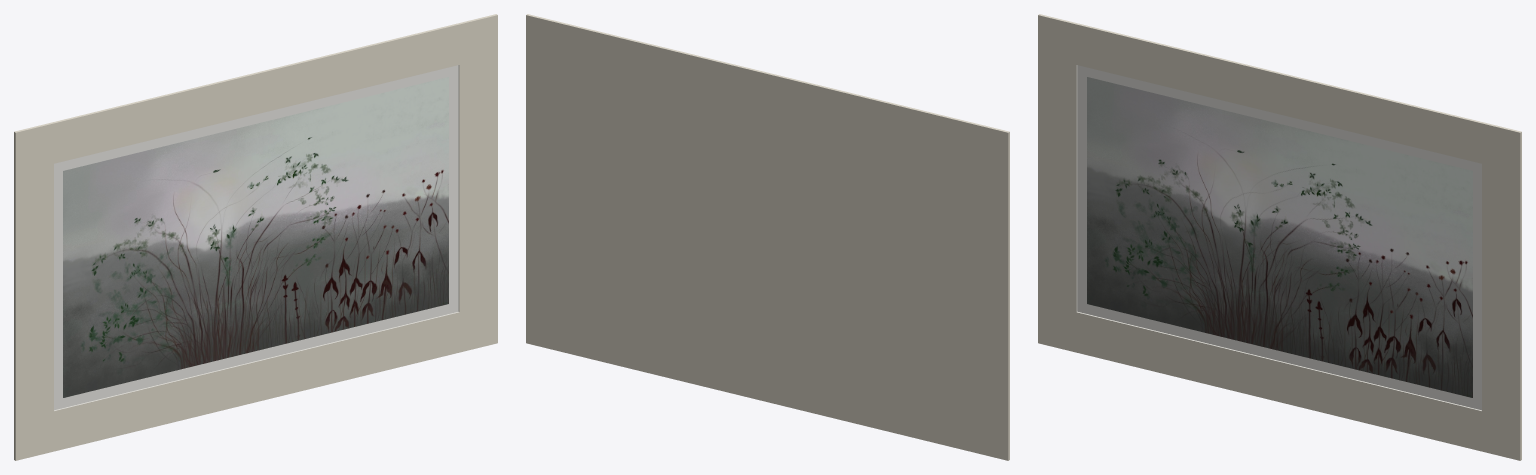
File: hz087_moyen_passe-partout.glb
3 views of the same model, side by side, from view 1: azimuth 30°, elevation 25°; view 2: azimuth 150°, elevation 25°; view 3: azimuth 330°, elevation 25° (orthographic).
Visible parts, largest first — view 1: hz087_moyen_passe-partout; view 2: hz087_moyen_passe-partout; view 3: hz087_moyen_passe-partout.
Boxes of the visible parts, x1,y1,x2,y2 form: hz087_moyen_passe-partout: (14,14,497,460); hz087_moyen_passe-partout: (526,14,1009,460); hz087_moyen_passe-partout: (1038,14,1521,460).
Bounding box in the file's own units: 1 × 0.65 × 0.0055.
Materials: 4 (1 with a texture image).
